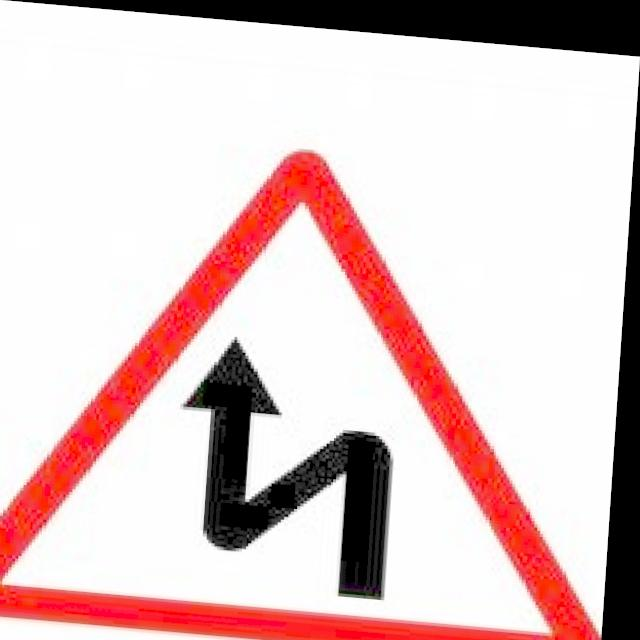LEFT_REVERSE_BEND: (0, 118, 634, 640)
